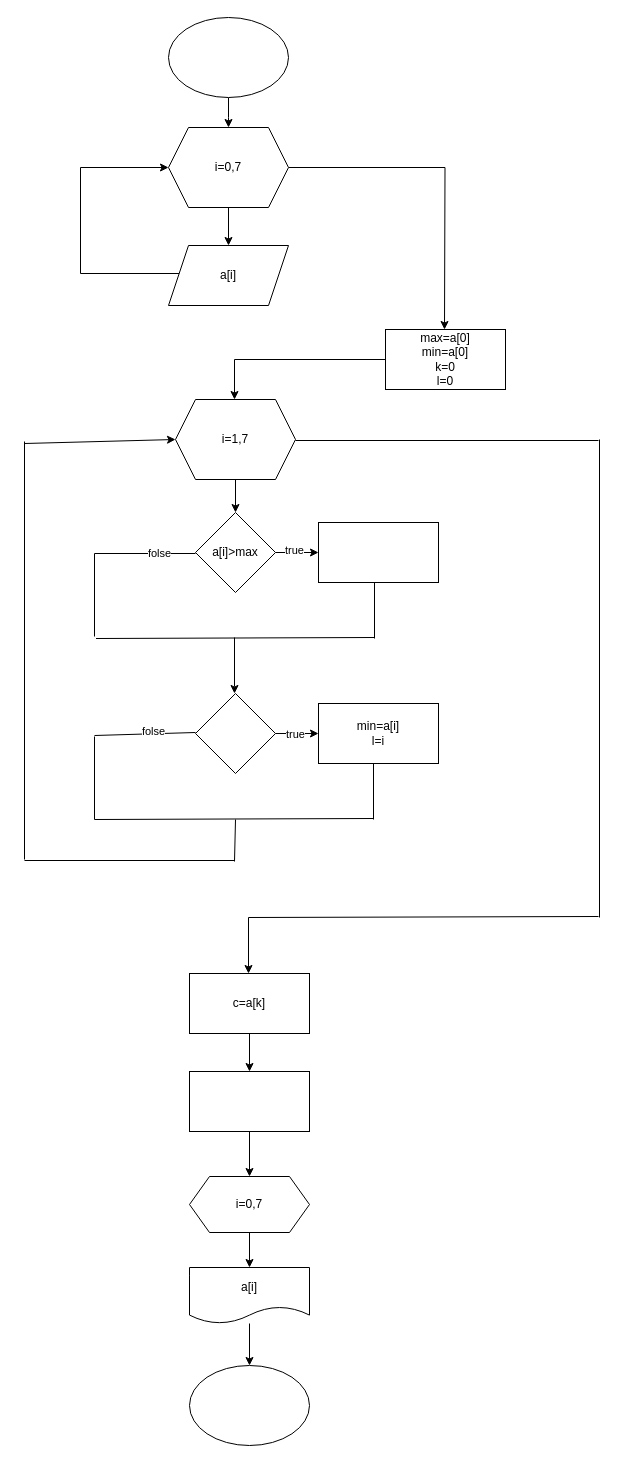
Some shapes in this 624 by 1463 pixel diagram are drawn without their labels. The box of each missing label's shape, as (x1, y1, x2, y2) in pixels:
a[i]<min: (194, 692, 276, 774)
a[k]=a[l] a[l]=c: (188, 1070, 310, 1132)
end: (188, 1364, 310, 1446)
max=a[i] k=i: (318, 522, 438, 582)
start: (168, 16, 288, 98)
